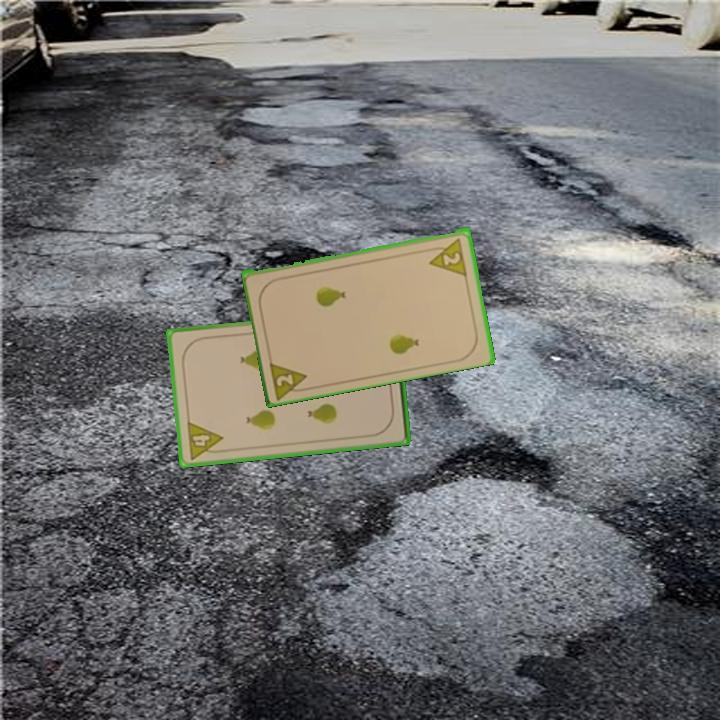2p: (266, 356, 313, 400), (424, 234, 470, 278)
4p: (183, 418, 227, 462)
